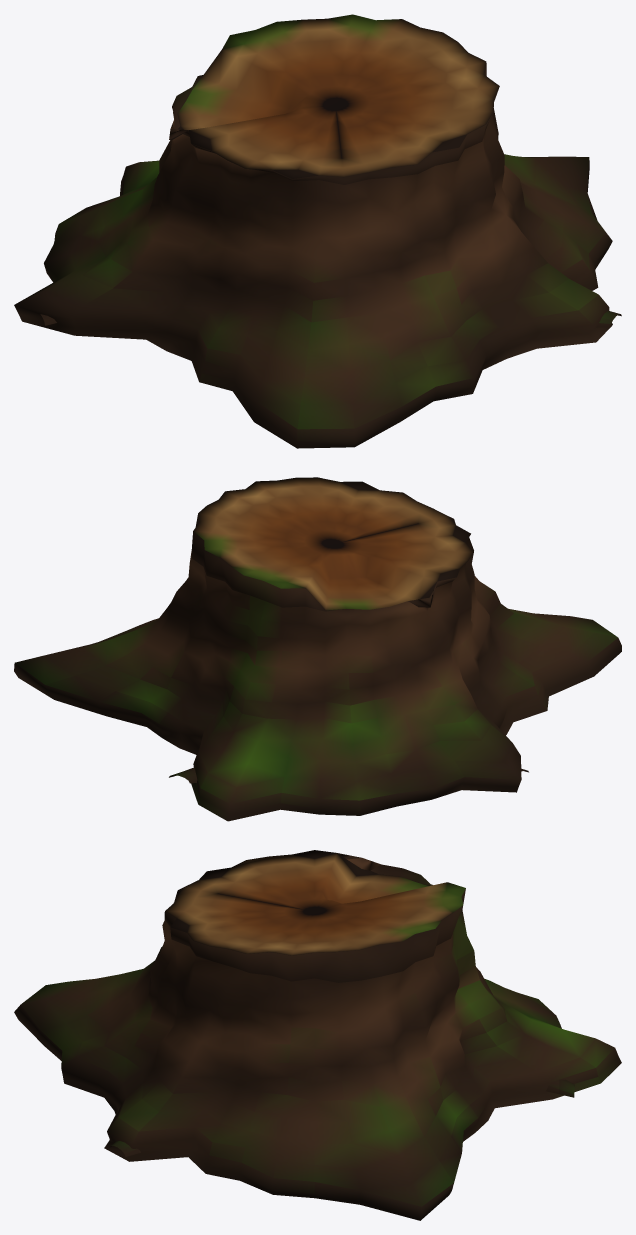
Rendered from stump_cypress.glb.
3 renders of one model, top to bottom at view 1: azimuth 30°, elevation 25°; view 2: azimuth 150°, elevation 25°; view 3: azimuth 270°, elevation 25°, orthographic. The views are drawn at different scales.
Parts seen in each view (by area): view 1: stump_cypress; view 2: stump_cypress; view 3: stump_cypress.
Boxes of the visible parts, left/top/right/bottom form: stump_cypress: left=14, top=14, right=621, bottom=448; stump_cypress: left=14, top=477, right=621, bottom=821; stump_cypress: left=14, top=850, right=621, bottom=1220.
Size of the model in its own units: 2.17 by 0.751 by 2.15.
